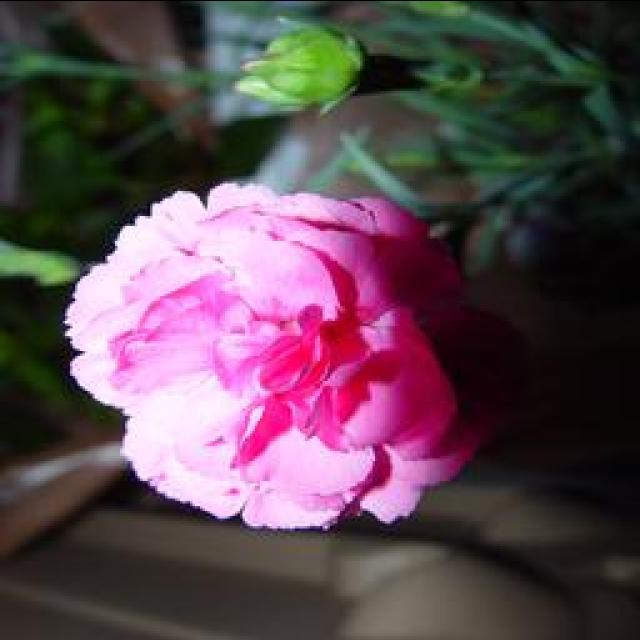carnation: (63, 158, 509, 542)
